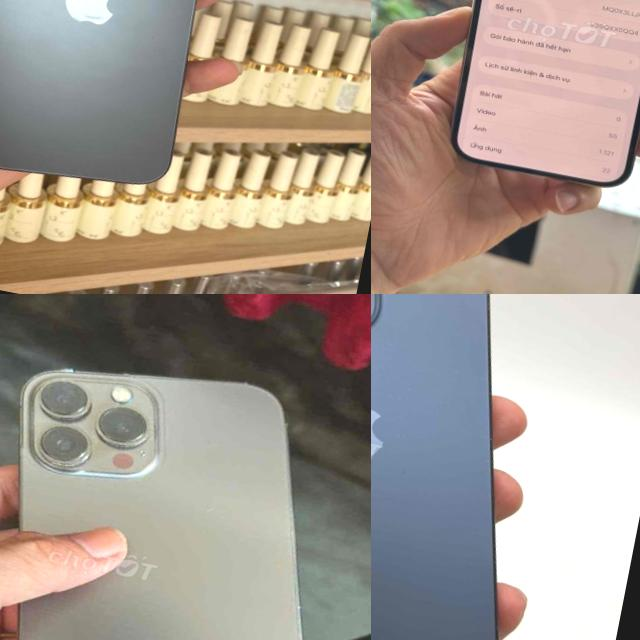gen_12_13: (0, 330, 371, 640)
gen_14: (424, 0, 640, 208)
gen_15: (371, 294, 589, 640)
gen_16: (0, 0, 238, 205)
